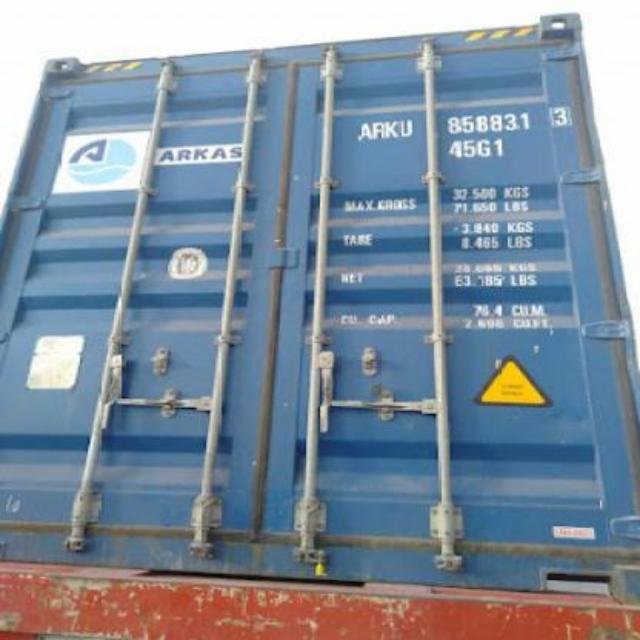1: (516, 108, 532, 130)
3: (550, 101, 568, 125), (504, 110, 516, 132)
5: (461, 112, 474, 138)
8: (446, 112, 459, 138), (488, 111, 504, 132), (474, 112, 488, 134)
A: (356, 119, 372, 143)
K: (382, 114, 398, 144)
R: (371, 118, 384, 144)
U: (396, 117, 414, 141)
